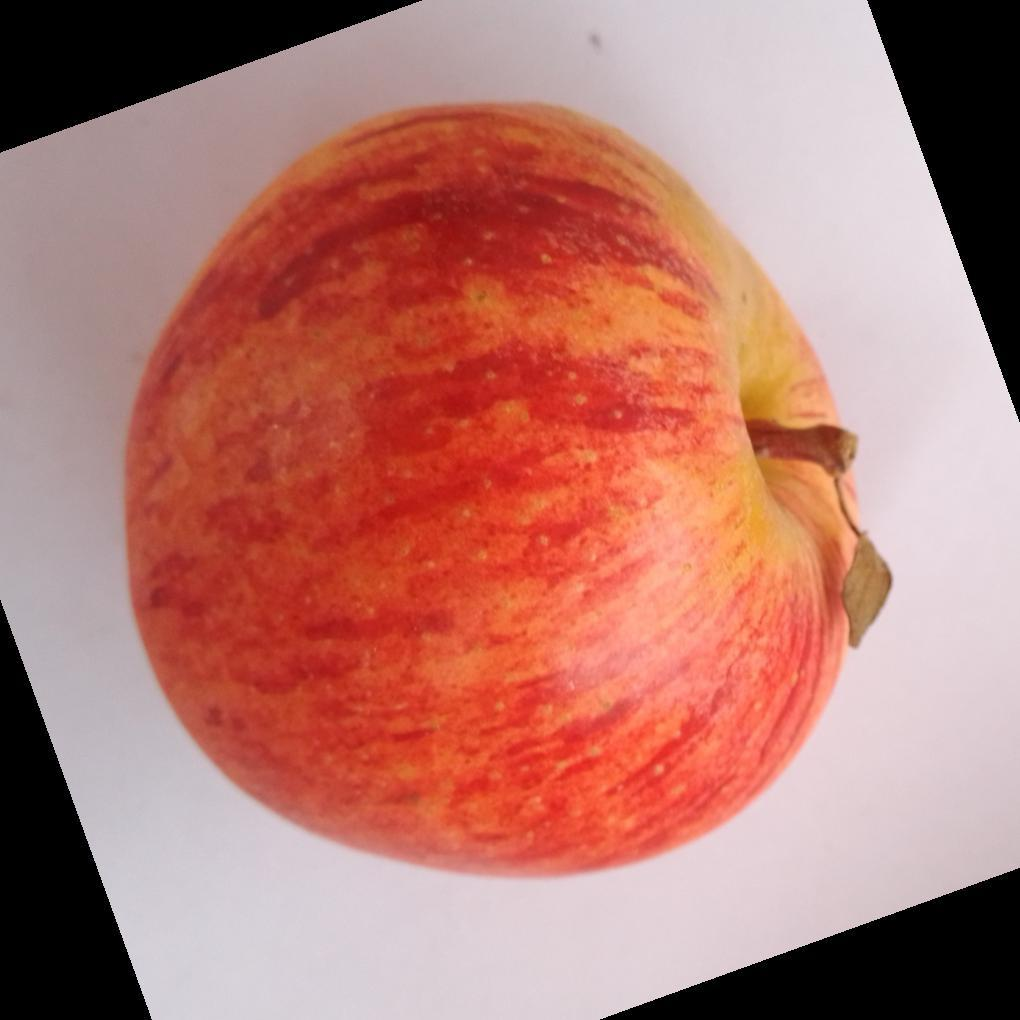FreshGuava: (121, 101, 893, 883)
